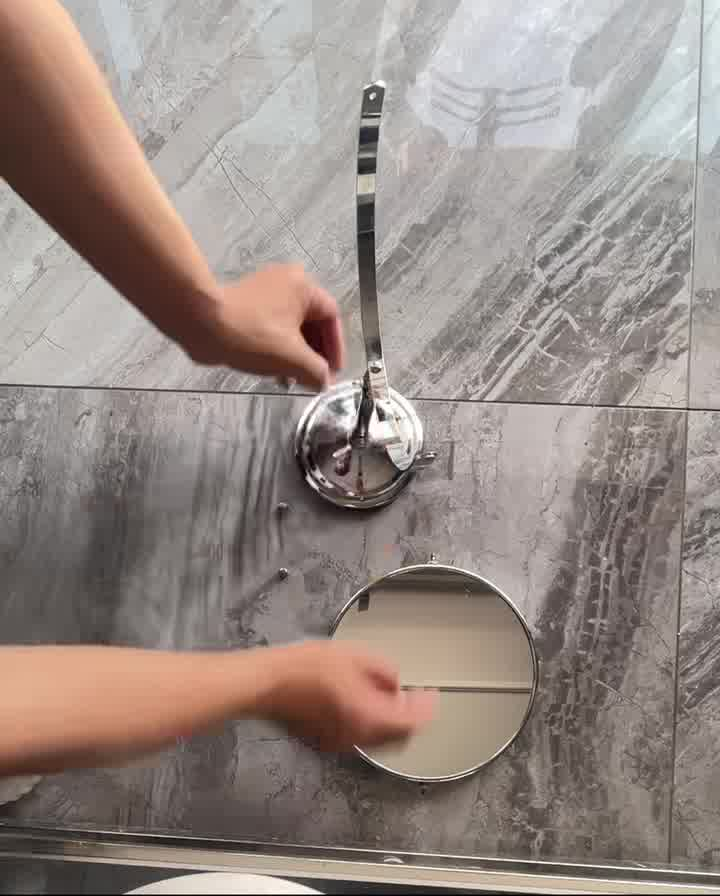base: (304, 383, 439, 507)
frame: (326, 77, 443, 513)
mirror: (317, 552, 548, 798)
screw: (271, 495, 294, 517), (273, 566, 290, 581)
